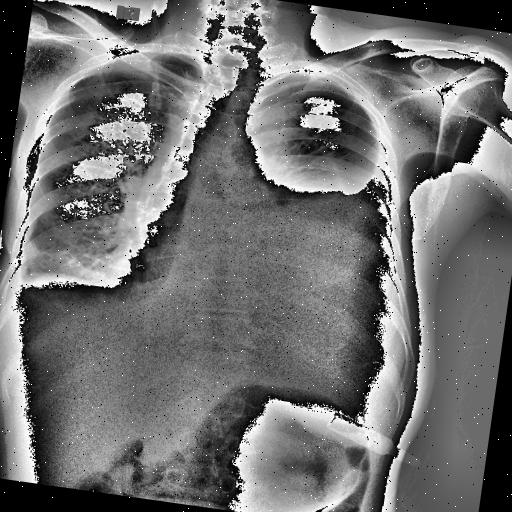10- Pleural effusion: (247, 116, 435, 373), (252, 135, 407, 336), (226, 134, 394, 308), (1, 257, 136, 314), (0, 256, 74, 316), (0, 259, 29, 309)
7- Lung Opacity: (126, 158, 200, 259), (12, 244, 136, 294), (28, 234, 126, 284)
